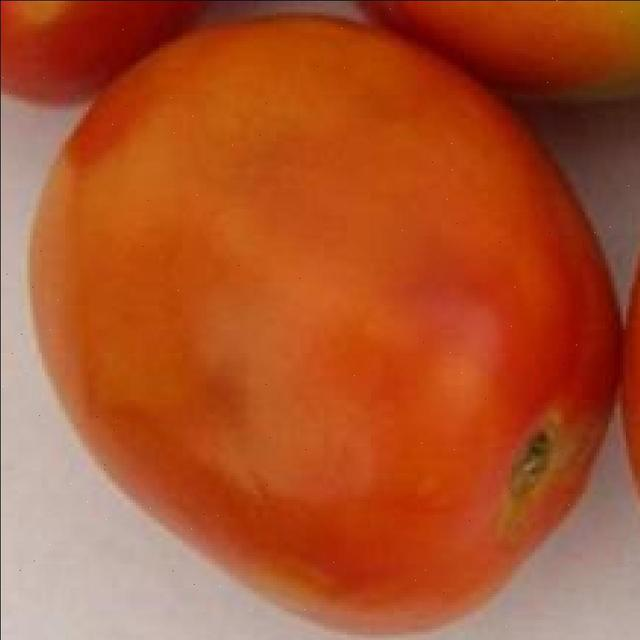Spotted wilt Virus Fruit: (20, 10, 416, 425)
